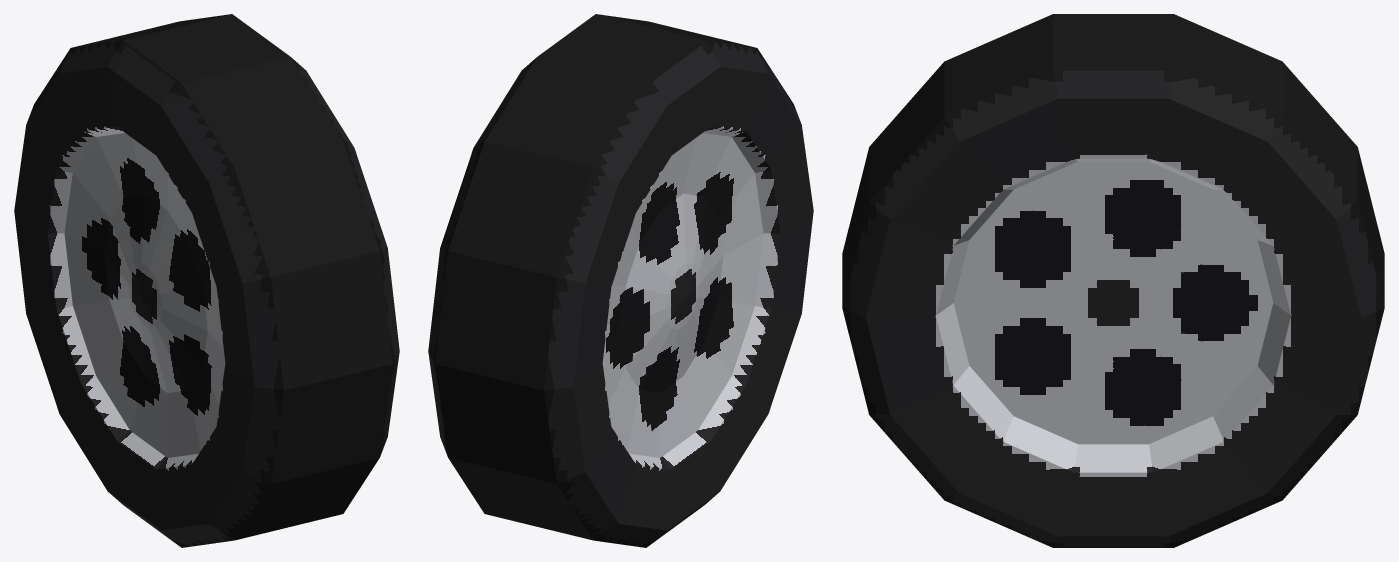
The model's file is wheel_pepper15_l.glb.
The picture shows the model from 3 angles, left to right: view 1: azimuth 30°, elevation 25°; view 2: azimuth 150°, elevation 25°; view 3: azimuth 270°, elevation 25°; orthographic projection. The views are drawn at different scales.
Visible parts, largest first — view 1: Wheel; view 2: Wheel; view 3: Wheel.
Boxes of the visible parts, x1,y1,x2,y2 form: Wheel: (14,14,399,547); Wheel: (428,14,813,547); Wheel: (842,14,1384,547).
Bounding box in the file's own units: 0.185 × 0.5655 × 0.58.
Materials: 2 (1 with a texture image).
